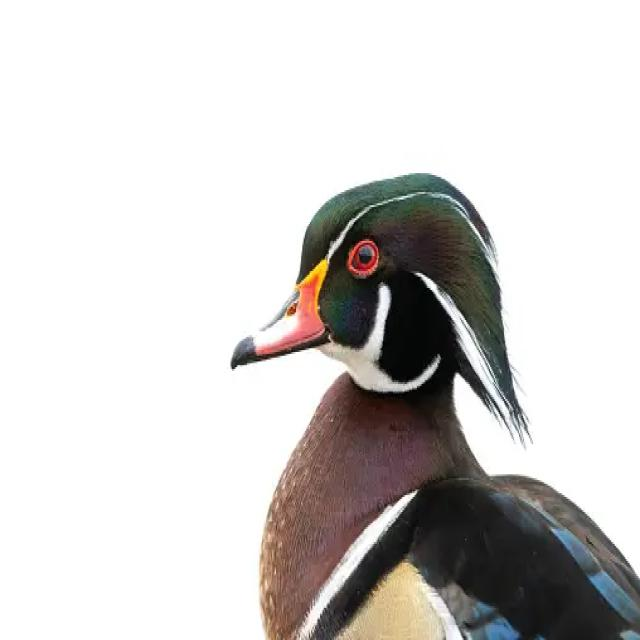ducks: (221, 96, 640, 640)
